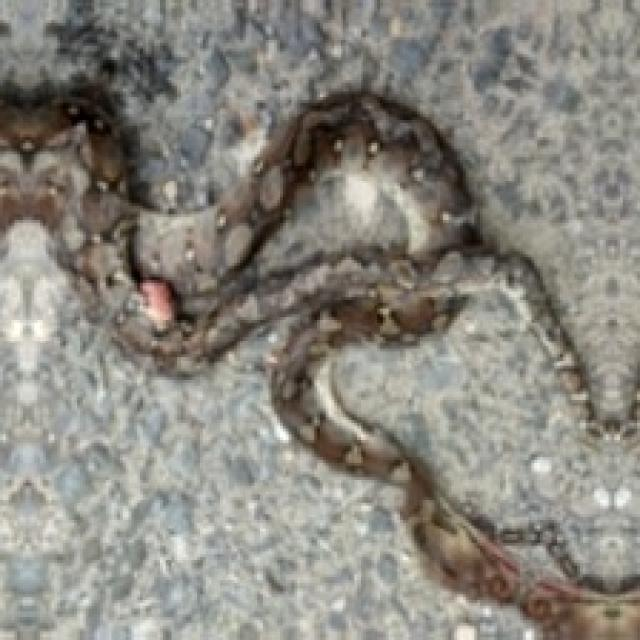reticulated python: (0, 92, 640, 640)
